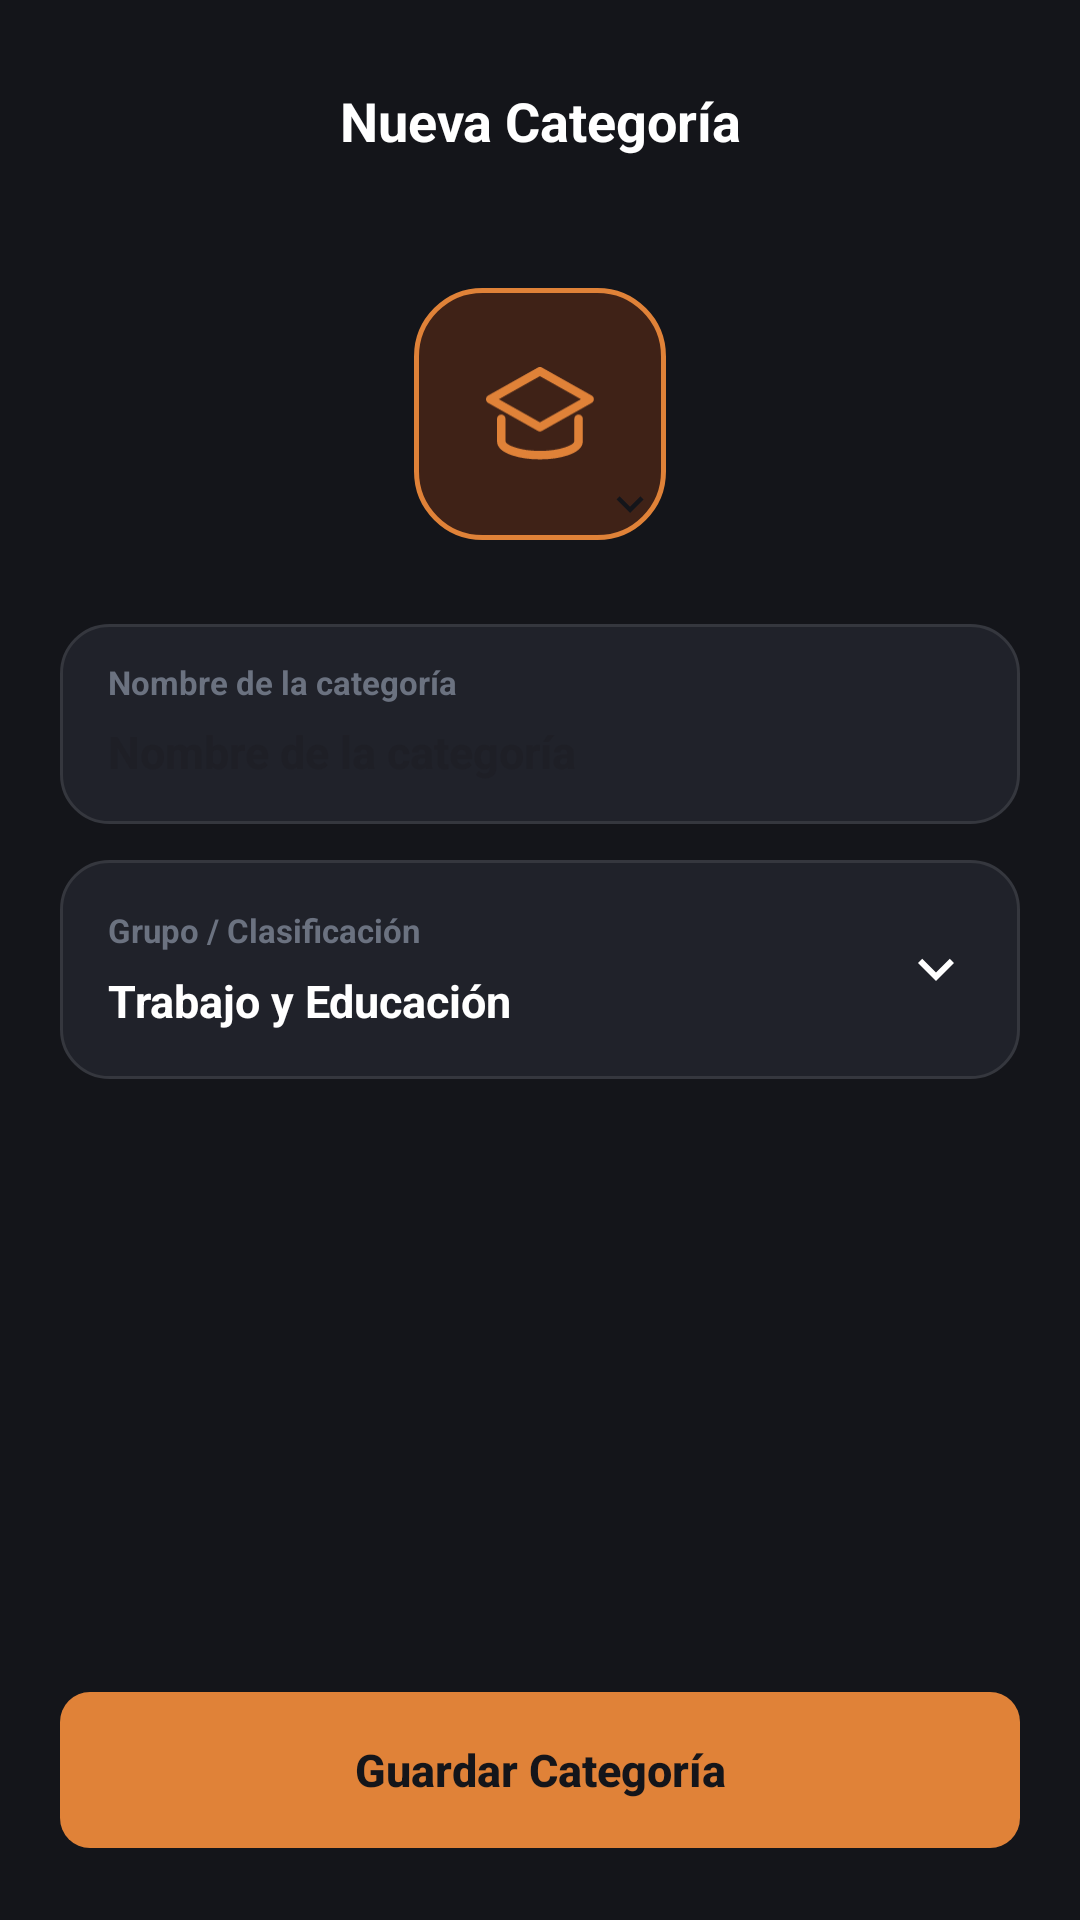

Icons on this 1080px×1920px Android screen, each with the point to tap as [x,y]:
Ícono de la categoría: [540,413]
